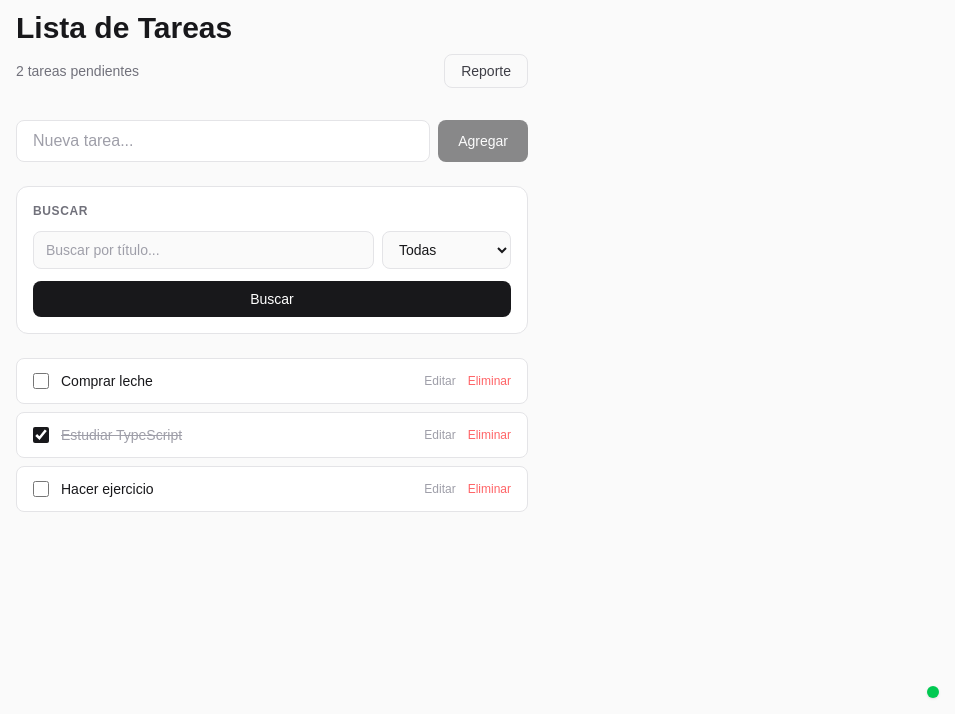
Scenario: ListaTareas — búsqueda › filtra tareas por estado "completadas"
The image size is (955, 714).
Expected: the text "Comprar leche" is shown, x1=61 y1=373 x2=153 y2=389
Select "Completadas" in the dropdown named "Filtrar por estado" at (446, 250), box x1=382 y1=231 x2=511 y2=269
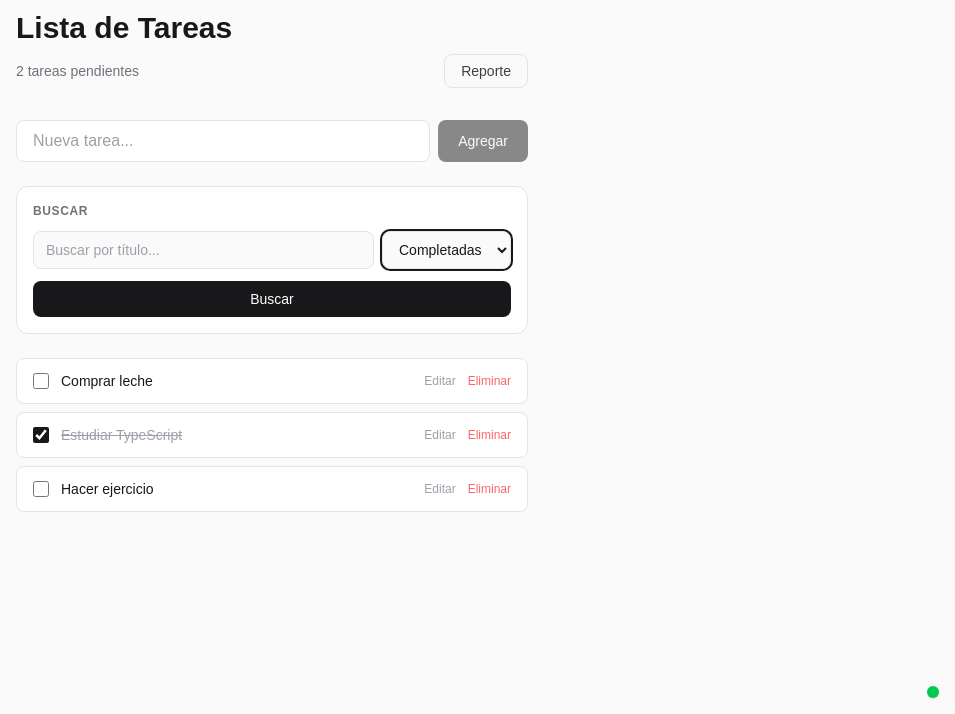
Click the button "Buscar".
click(272, 299)  # box x1=33 y1=281 x2=511 y2=317
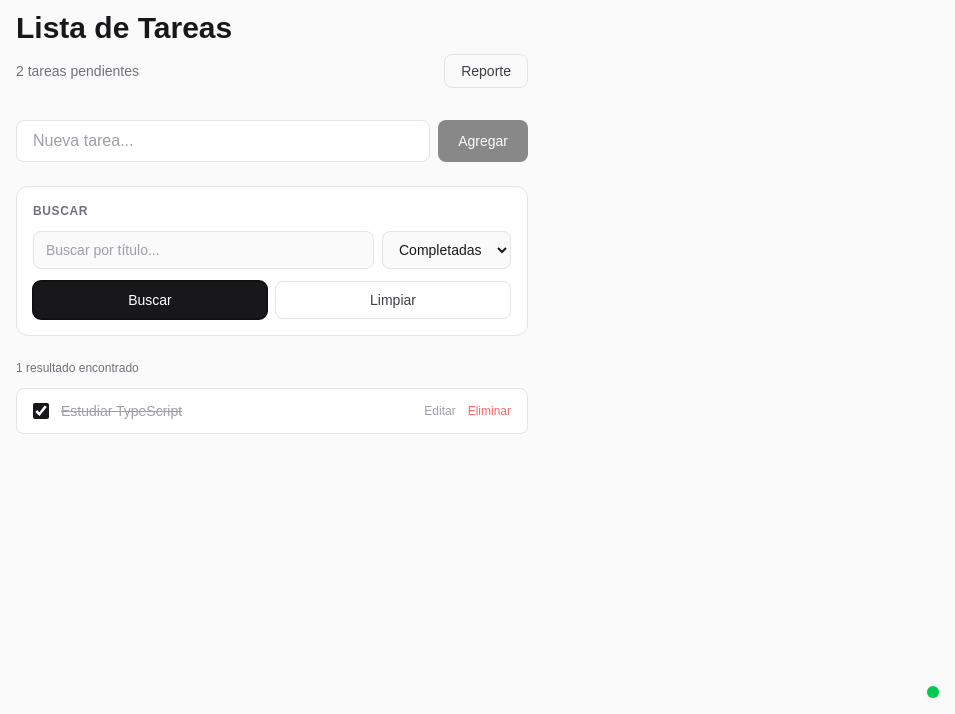
Expected: the text "Estudiar TypeScript" is shown, x1=61 y1=403 x2=182 y2=419
Now the text "Comprar leche" is gone
Now the text "Hacer ejercicio" is gone
